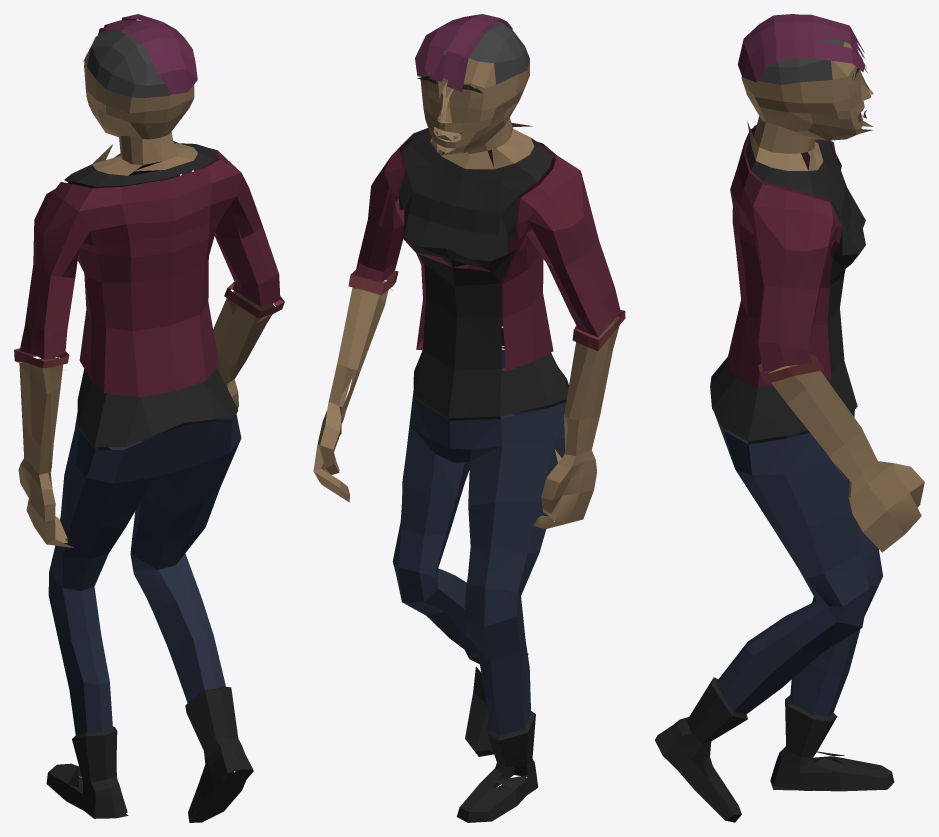
The model's file is person_8_w2.fbx.
3 views of the same model, side by side, from view 1: azimuth 30°, elevation 25°; view 2: azimuth 150°, elevation 25°; view 3: azimuth 270°, elevation 25° (orthographic). The views are drawn at different scales.
Visible parts, largest first — view 1: Female; view 2: Female; view 3: Female.
Part boxes in pixels (box(x1,y1,x2,y2)): Female: box(14, 14, 284, 822); Female: box(313, 14, 625, 822); Female: box(655, 14, 924, 822).
Size of the model in its own units: 0.3391 by 1 by 0.3105.
